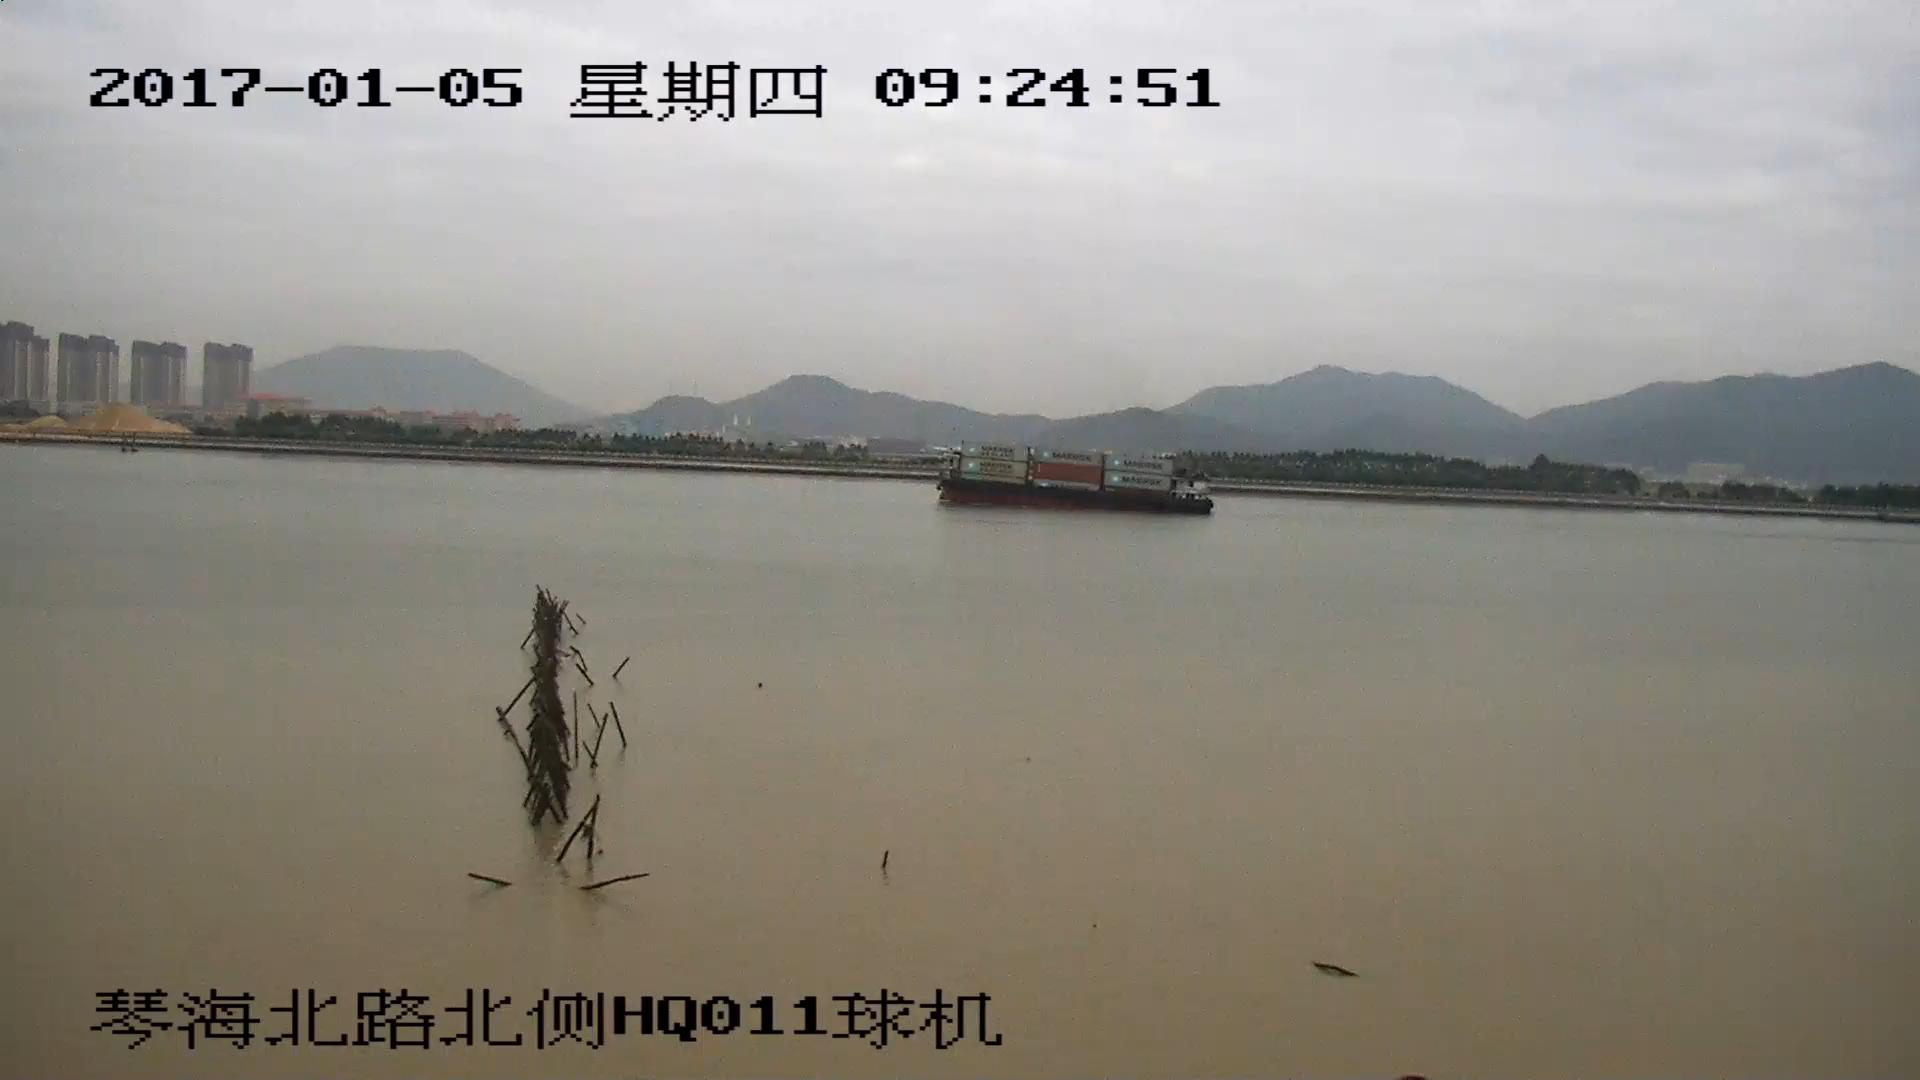container ship: (935, 442, 1214, 516)
